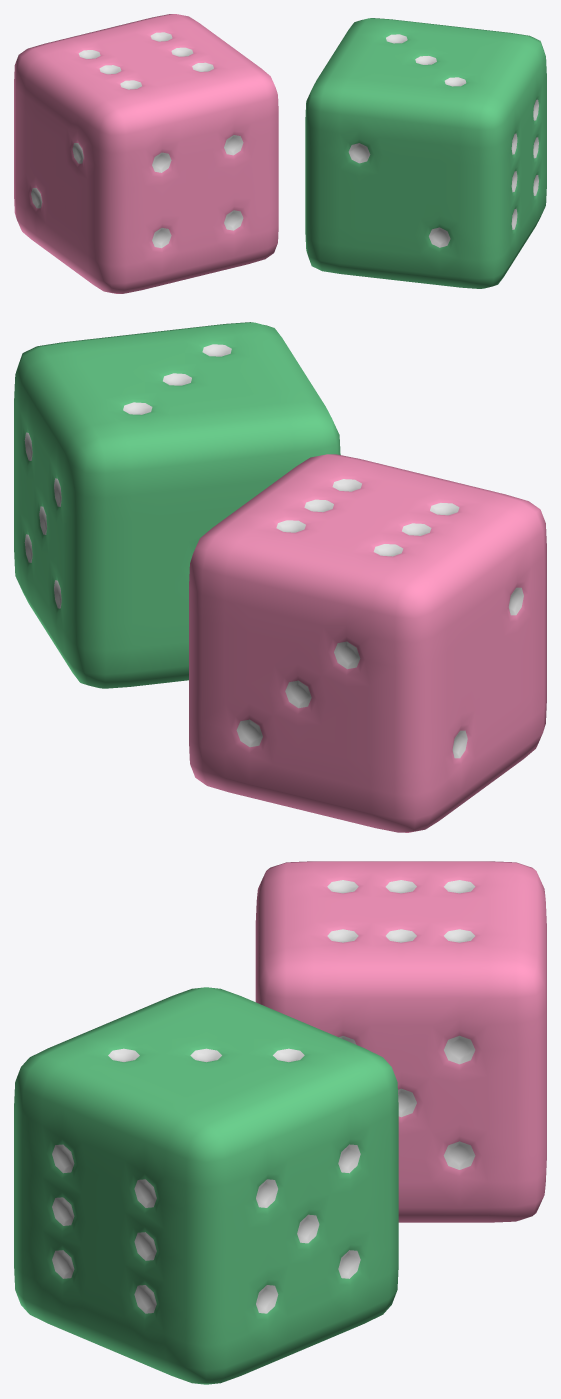
File: dices.fbx
3 views of the same model, one above another, from view 1: azimuth 30°, elevation 25°; view 2: azimuth 150°, elevation 25°; view 3: azimuth 270°, elevation 25° (orthographic). The views are drawn at different scales.
Visible parts, largest first — view 1: dices; view 2: dices; view 3: dices.
Part boxes in pixels (bbox=[...]): dices: bbox=[14, 14, 546, 293]; dices: bbox=[14, 322, 546, 832]; dices: bbox=[14, 861, 546, 1384].
Bounding box in the file's own units: 3.73 × 1.6 × 2.93.
